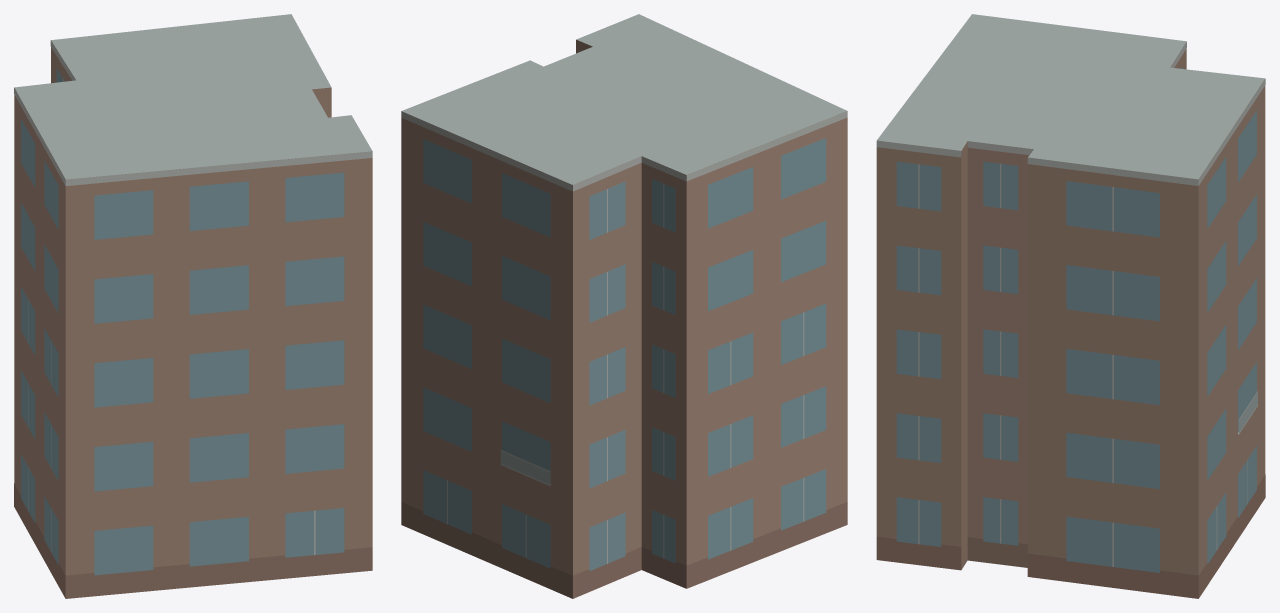
File: survey-upis-32949381.glb
3 views of the same model, side by side, from view 1: azimuth 30°, elevation 25°; view 2: azimuth 150°, elevation 25°; view 3: azimuth 270°, elevation 25° (orthographic).
Parts seen in each view (by area): view 1: survey-upis-32949381.tmp; view 2: survey-upis-32949381.tmp; view 3: survey-upis-32949381.tmp.
Part boxes in pixels (x1,y1,x2,y2): survey-upis-32949381.tmp: [14, 14, 372, 598]; survey-upis-32949381.tmp: [401, 14, 847, 598]; survey-upis-32949381.tmp: [876, 14, 1265, 598].
Size of the model in its own units: 13.13 by 15.5 by 13.03.
